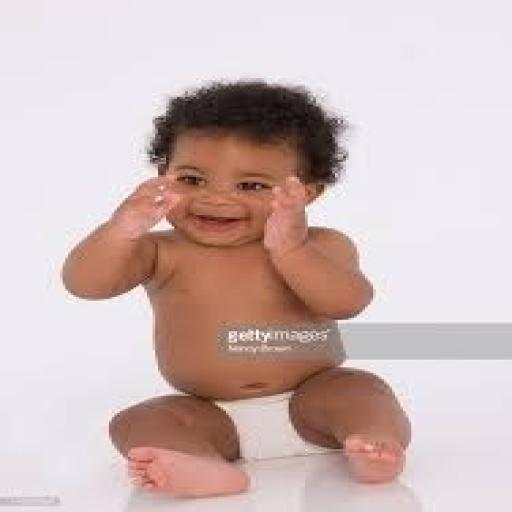clapping: (57, 78, 414, 499)
